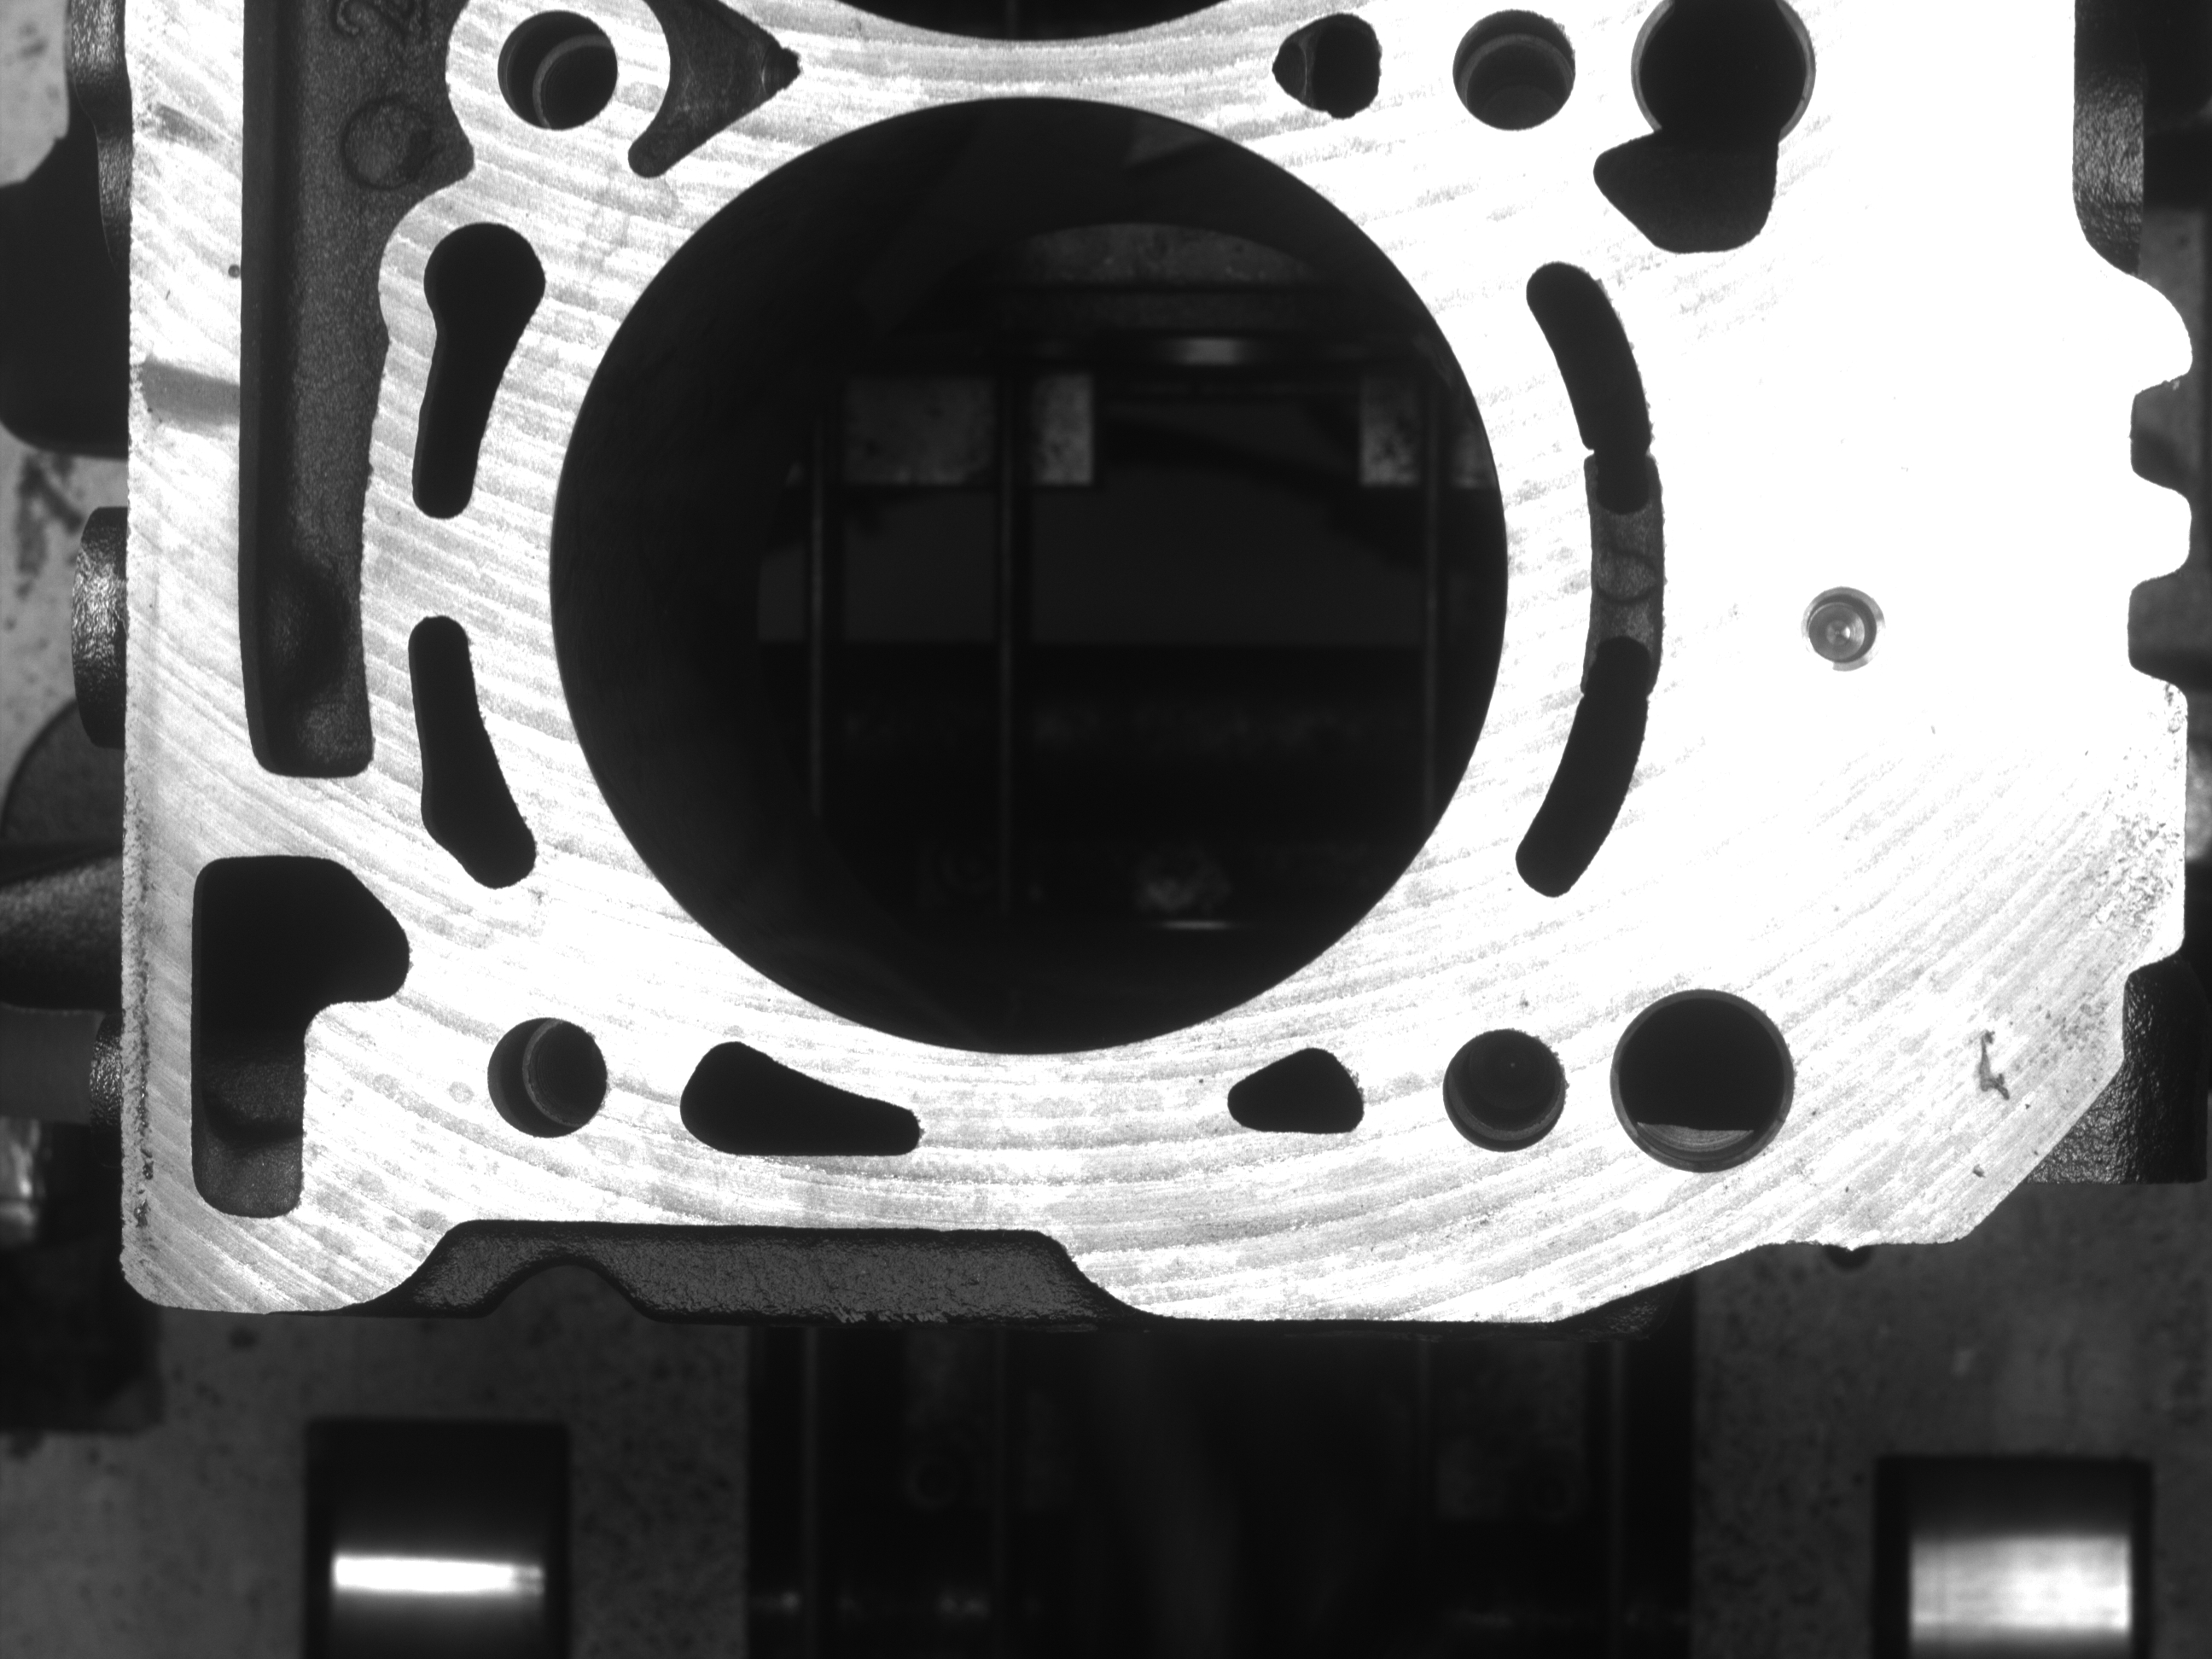crackle: (214, 249, 242, 284)
